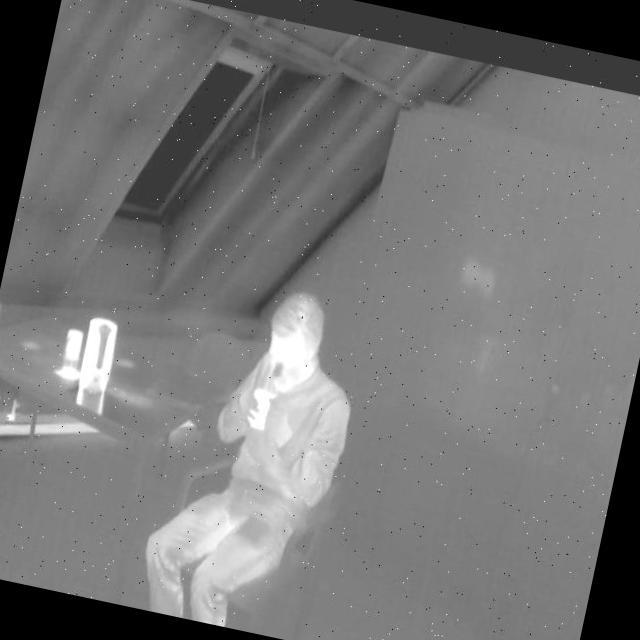person: (124, 275, 374, 640)
